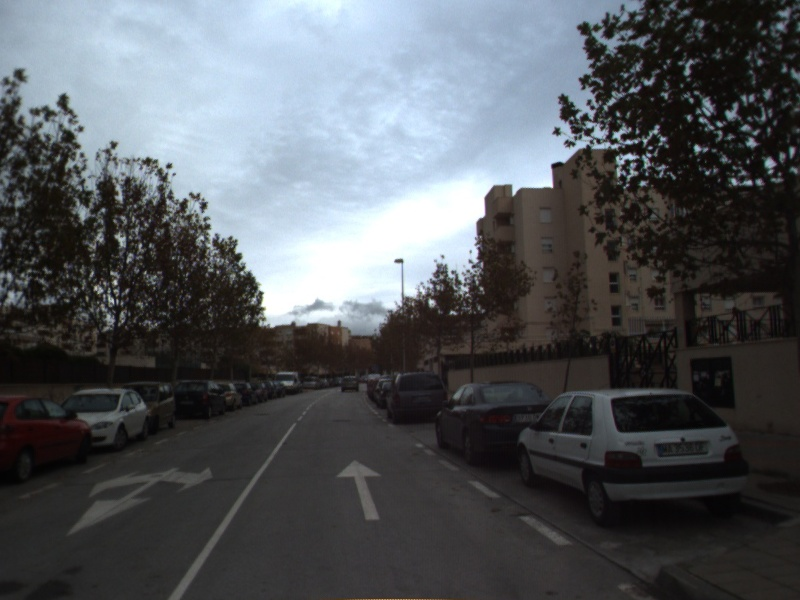STRAIGHT: (334, 458, 384, 522)
